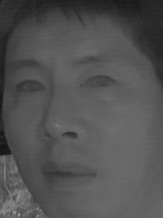eye: (80, 69, 119, 97), (10, 74, 48, 97)
mouth: (39, 153, 98, 187)
